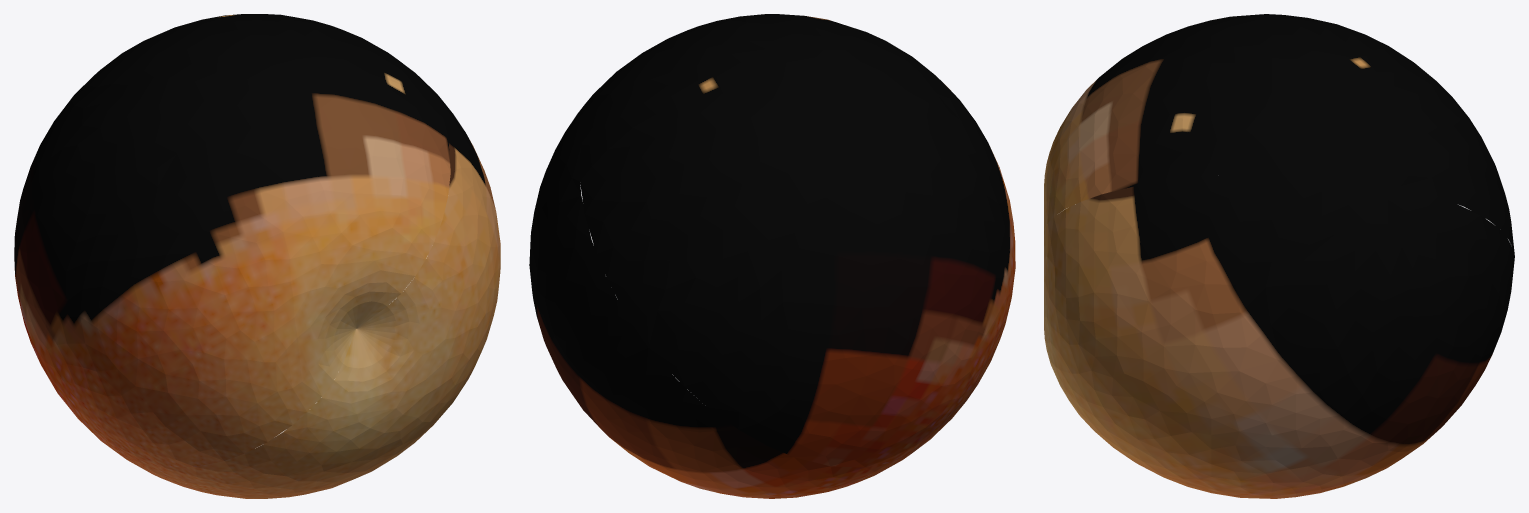
File: textured.baked.glb
The picture shows the model from 3 angles, left to right: view 1: azimuth 30°, elevation 25°; view 2: azimuth 150°, elevation 25°; view 3: azimuth 270°, elevation 25°; orthographic projection.
Visible parts, largest first — view 1: Sphere_002_blood_orange_whole_0_005-mesh; view 2: Sphere_002_blood_orange_whole_0_005-mesh; view 3: Sphere_002_blood_orange_whole_0_005-mesh.
Part boxes in pixels (bbox=[...]): Sphere_002_blood_orange_whole_0_005-mesh: bbox=[14, 14, 500, 498]; Sphere_002_blood_orange_whole_0_005-mesh: bbox=[529, 14, 1015, 498]; Sphere_002_blood_orange_whole_0_005-mesh: bbox=[1044, 14, 1514, 498].
Bounding box in the file's own units: 0.07 × 0.07 × 0.068.
1 material, 1 textured.
